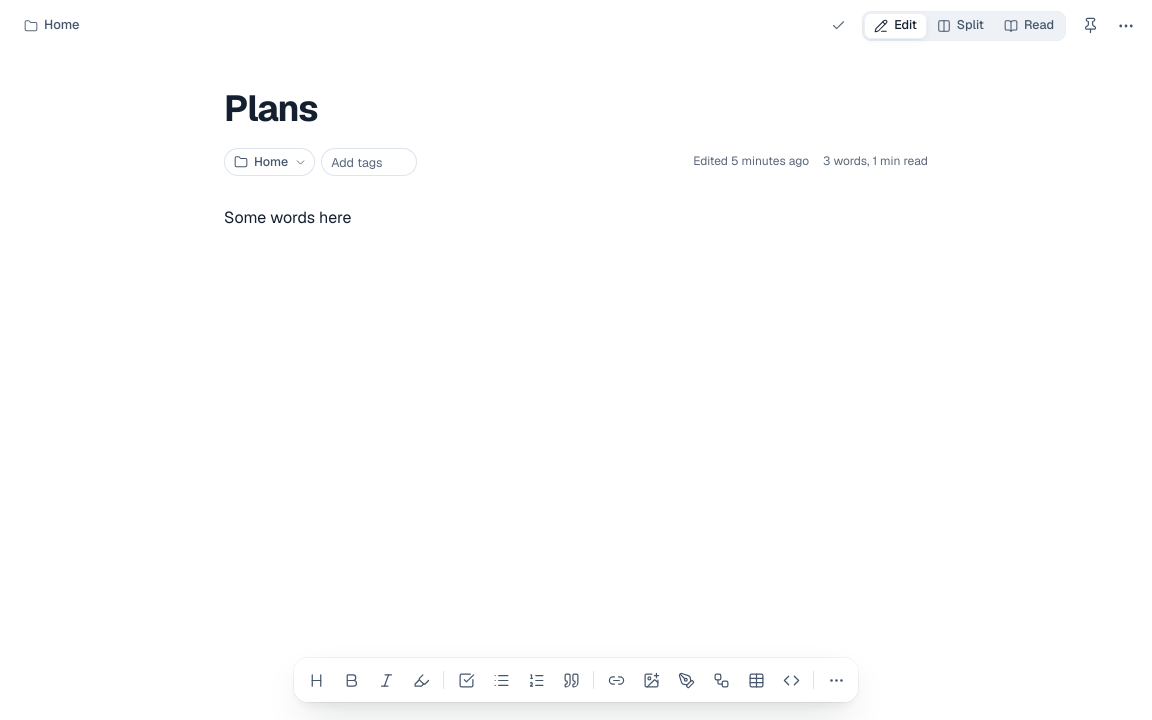
Test: where the note is › moves the note to another folder from its folder chip, with the current one ticked
The width and height of the screenshot is (1152, 720).
Click the button "Home" in the row of "Edited". click: x=270, y=162
box: [224, 148, 315, 176]
Wait 20 ms
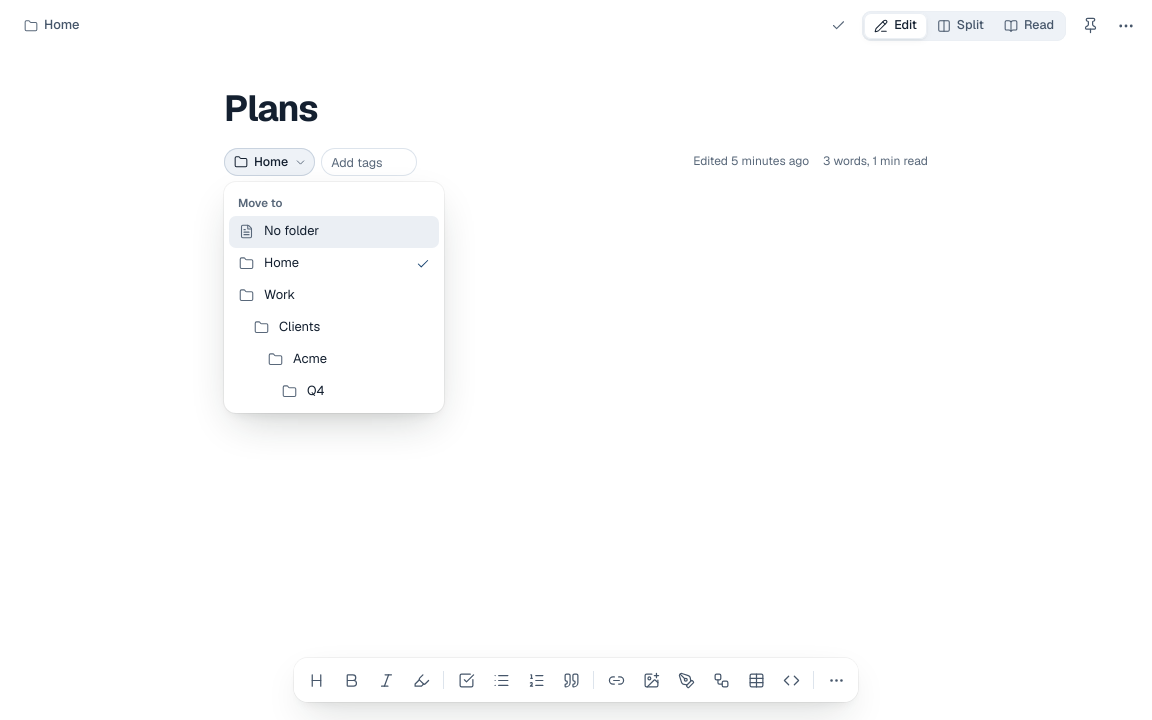
Expected: the menu shows "Move to", [238, 195, 282, 210]
Click the menu item "Acme". click: x=334, y=360
box: [229, 344, 439, 376]
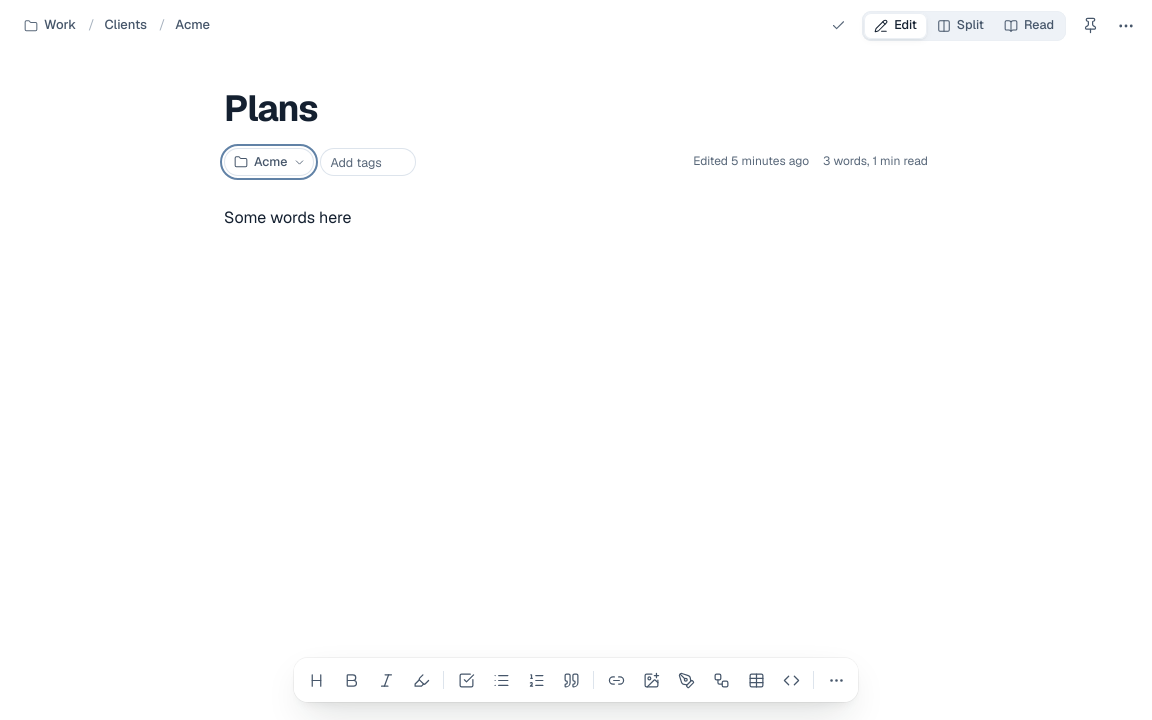
Expected: the button "Acme" in the row of "Edited" is shown, [224, 148, 314, 176]
Expected: the menu is gone
